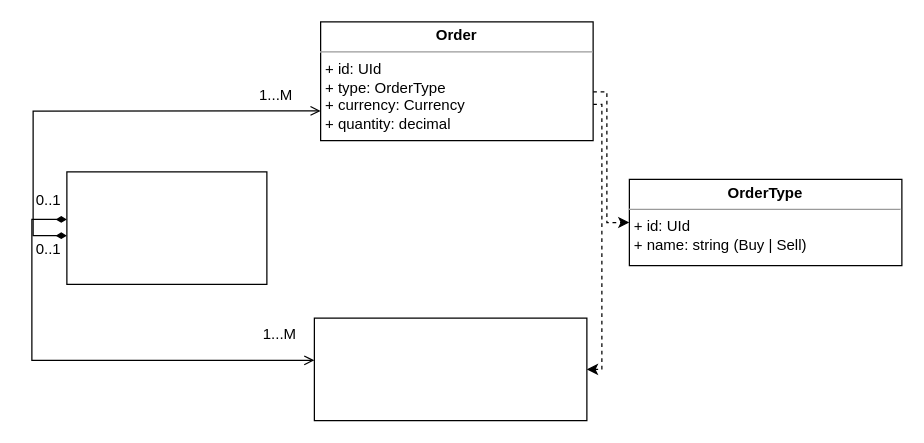
This 924x443 diagram has some shape labels left out. Each missing label, with the centre of its shape:
"Currency + id: Uid + name: string + price: decimal" belongs at point 450,369.
"UserEntity + currencies: Currency [] + orders: Order [] + method(): Type" belongs at point 166,227.
